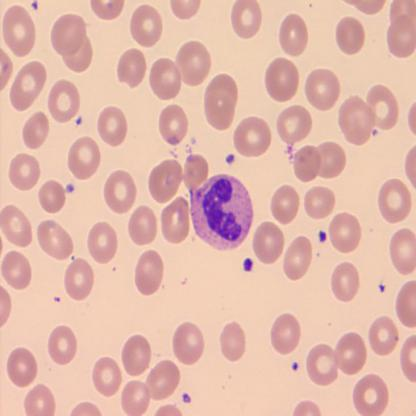Band Neutrophil: (187, 170, 256, 253)
